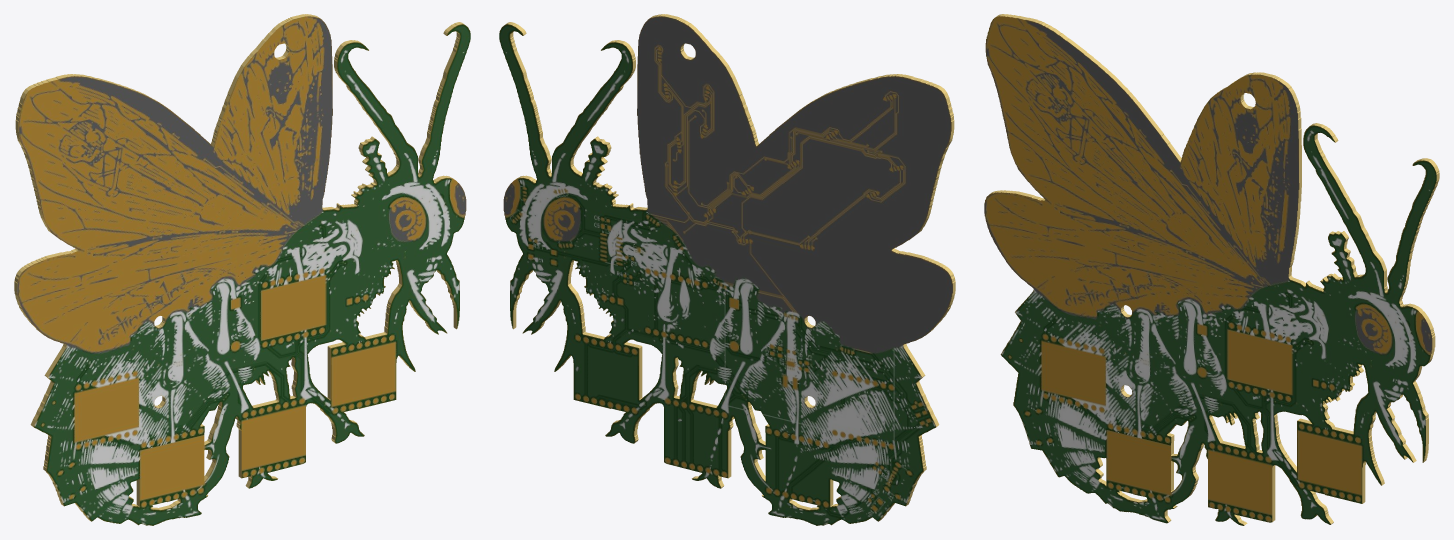
The model's file is beelzebub-minibadge-holder.glb.
3 views of the same model, side by side, from view 1: azimuth 30°, elevation 25°; view 2: azimuth 150°, elevation 25°; view 3: azimuth 330°, elevation 25° (orthographic).
Visible parts, largest first — view 1: faces, edges; view 2: faces, edges; view 3: faces, edges.
Boxes of the visible parts, x1,y1,x2,y2 form: faces: (17,16,470,525); edges: (14,14,464,520); faces: (499,16,952,525); edges: (505,14,955,520); faces: (984,16,1436,525); edges: (990,14,1439,525).
Size of the model in its own units: 0.1424 by 0.1418 by 0.0016.
2 materials, 1 textured.
